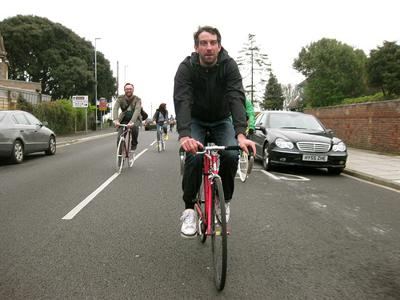person: (171, 26, 256, 241)
